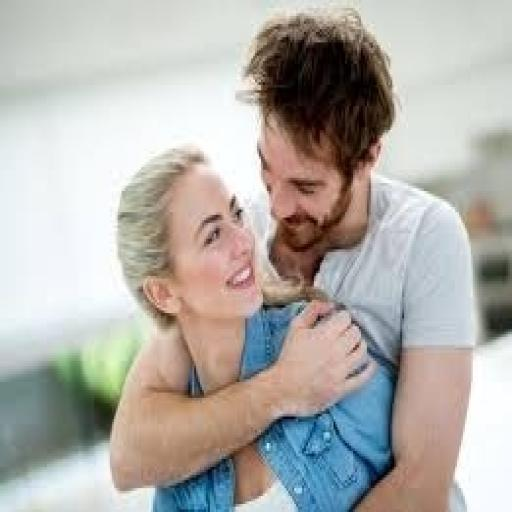hugging: (106, 6, 479, 510)
